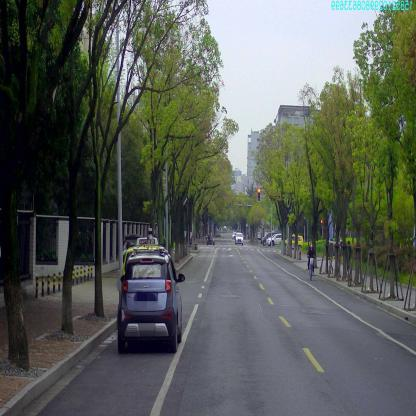traffic-light: (258, 188, 260, 201)
